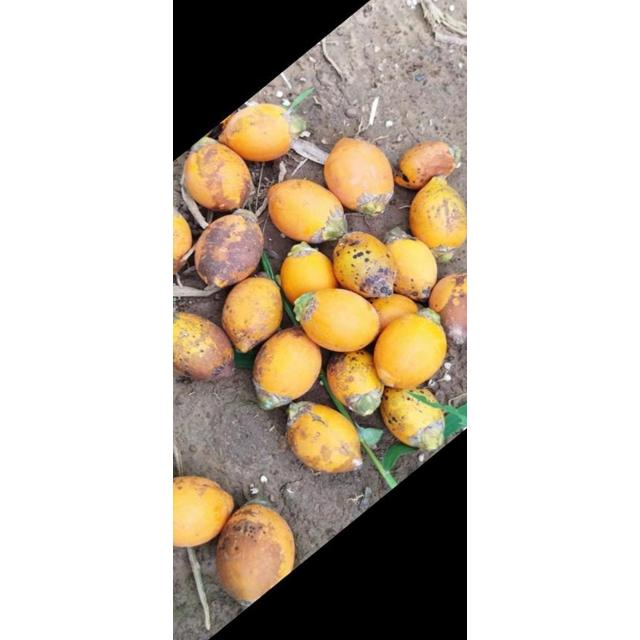damaged: (194, 210, 264, 288), (396, 141, 458, 193)
good: (216, 504, 296, 605), (376, 386, 466, 466), (294, 288, 380, 354), (182, 137, 252, 218), (374, 315, 446, 393), (324, 137, 394, 216), (253, 328, 322, 408), (286, 406, 360, 475), (214, 99, 291, 164), (222, 276, 282, 356), (173, 476, 234, 550), (322, 346, 384, 418), (334, 233, 397, 302), (173, 312, 233, 384), (268, 180, 336, 242), (410, 178, 466, 252), (389, 238, 438, 306), (280, 246, 335, 306)
